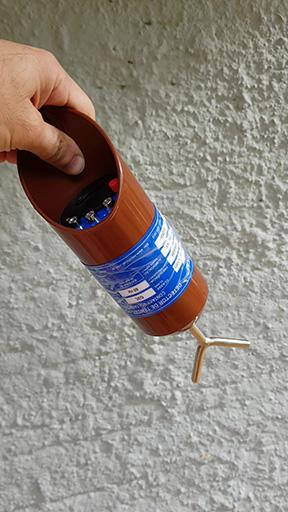Detector_Tensao_Contato: (18, 107, 250, 383)
